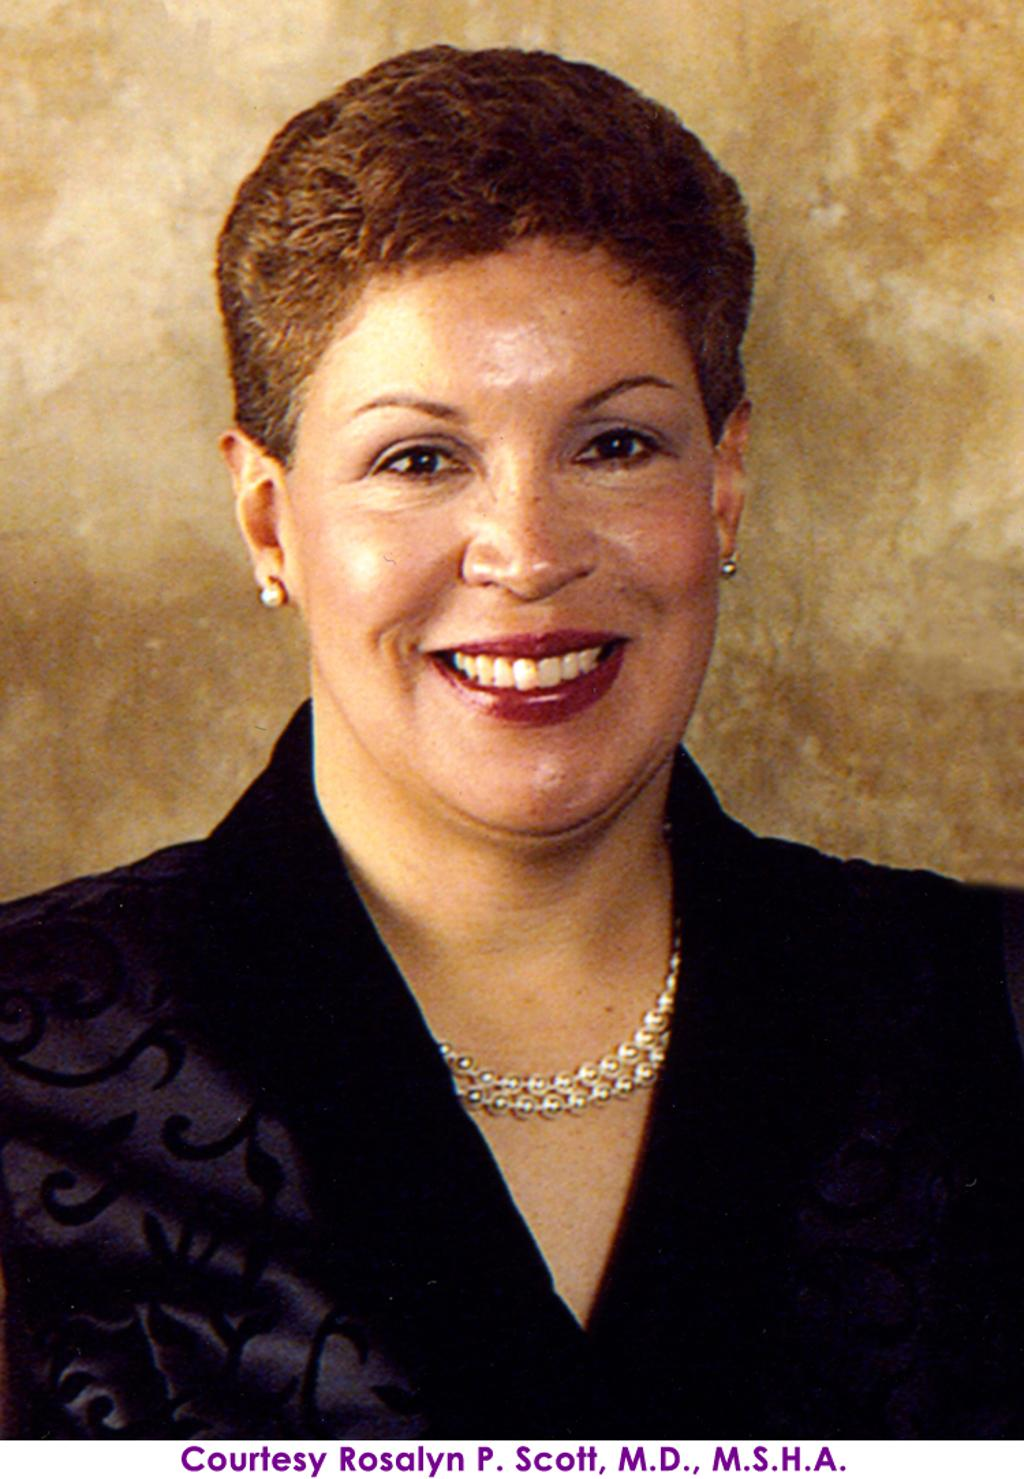face: (303, 260, 715, 837)
